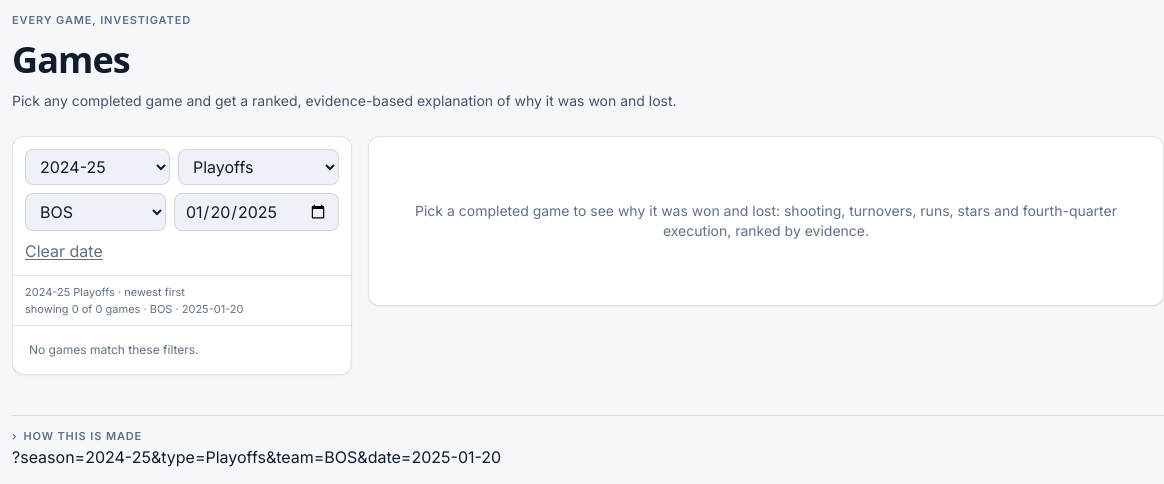
it: page navigation contracts › restores valid Games filters from the URL and writes filter changes back
Check: the dropdown named "Season" shows "2024-25", box x1=25 y1=149 x2=170 y2=185
Check: the dropdown named "Season type" shows "Playoffs", box x1=178 y1=149 x2=339 y2=185
Select "LAL" in the dropdown named "Team": (96, 212) x1=25 y1=193 x2=166 y2=231
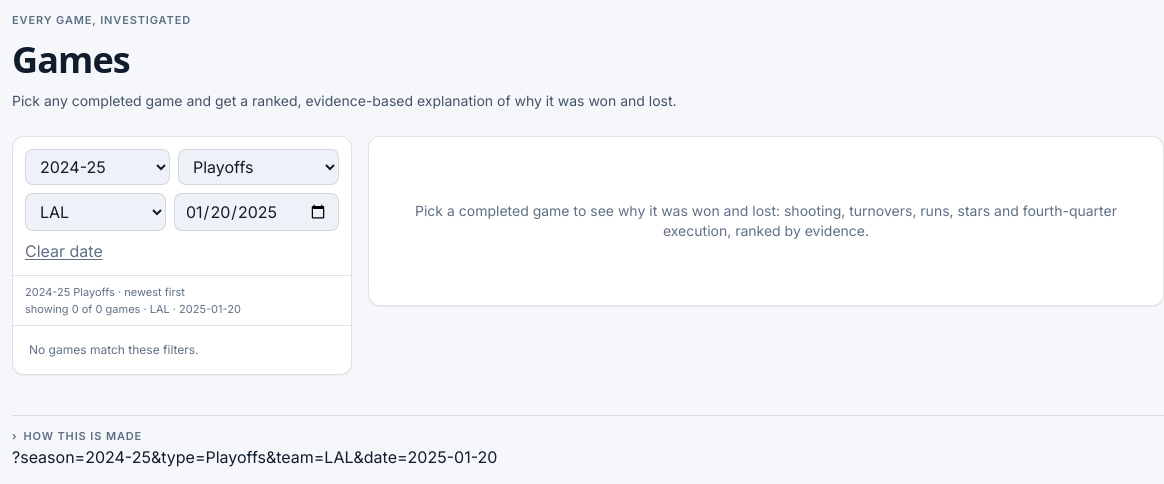
Check: the text with test id "location" shows "team=LAL", box x1=12 y1=447 x2=497 y2=467
